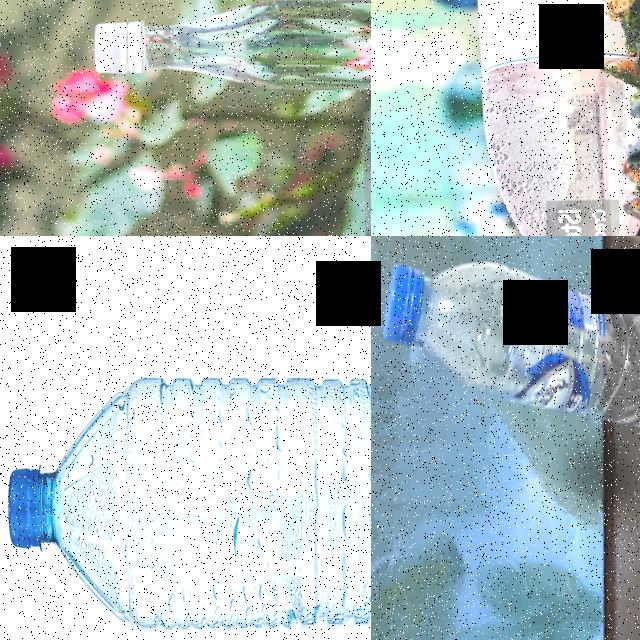bottle: (4, 363, 371, 640), (371, 251, 640, 453), (88, 0, 371, 97)
